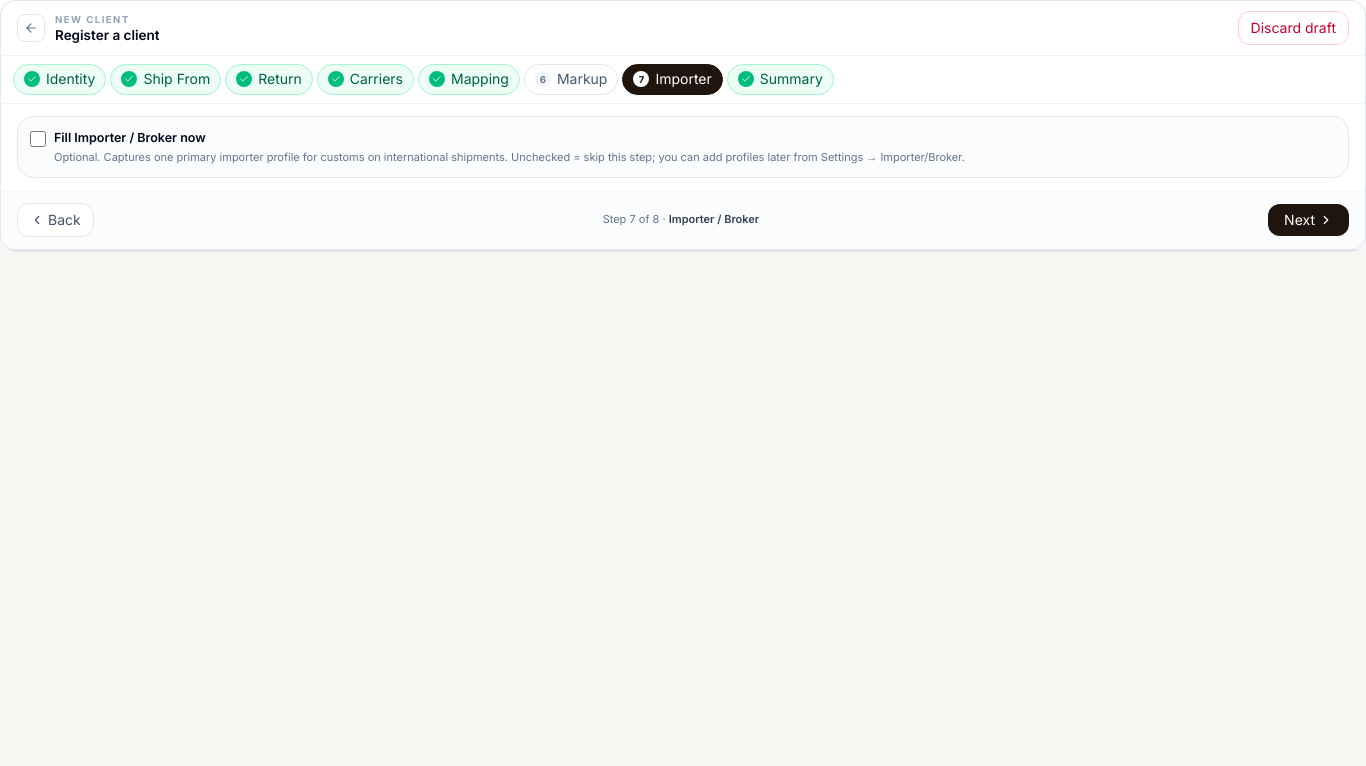
it: ClientEditorPage · ImporterBrokerDraftStep (create mode) › checking Fill reveals the identity block, shipment defaults, and broker section
The image size is (1366, 766).
Click the checkbox labelled "Fill Importer / Broker now": point(38, 139) [30, 131, 46, 147]
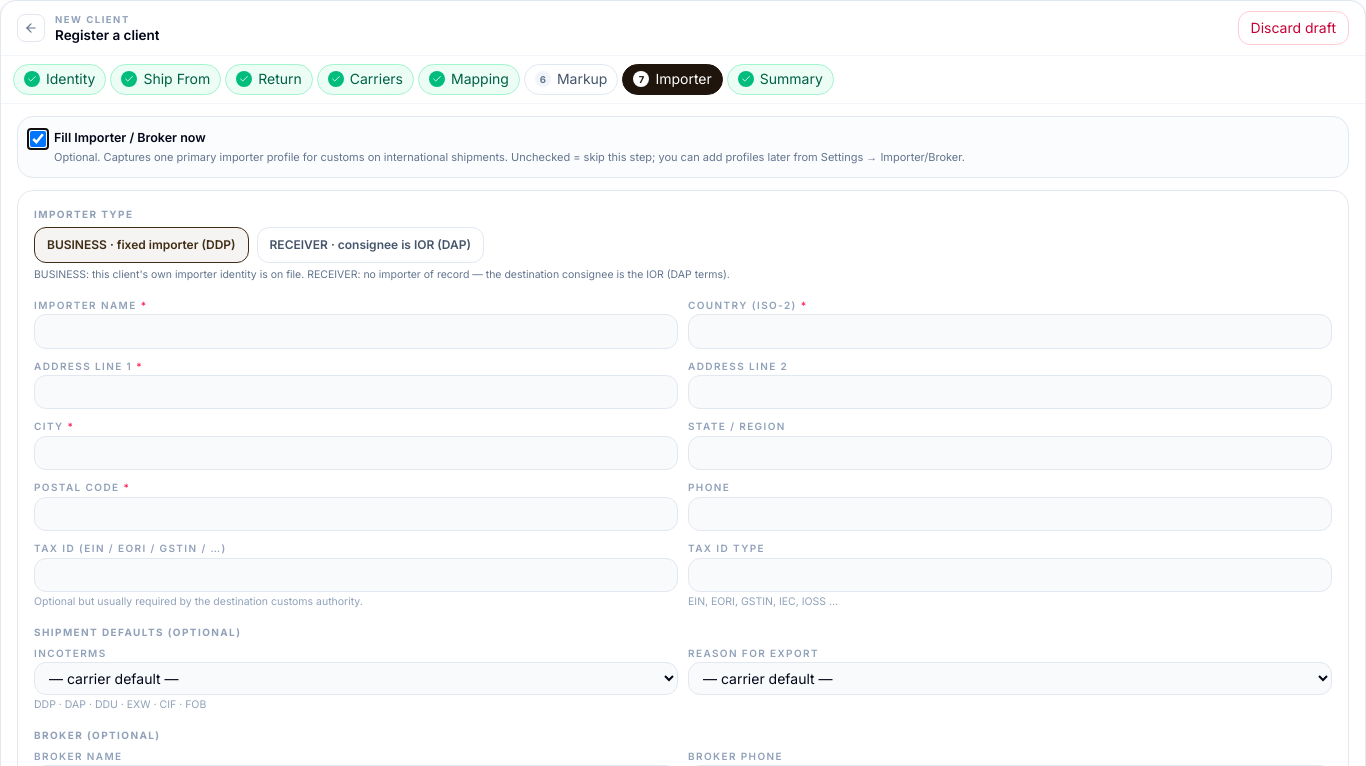
Now the radio button labelled "BUSINESS · fixed importer (DDP)" is shown, box [34, 227, 248, 263]
Now the radio button labelled "RECEIVER · consignee is IOR (DAP)" is shown, box [256, 227, 484, 263]
Now the text "Importer name *" is shown, box [34, 299, 148, 311]
